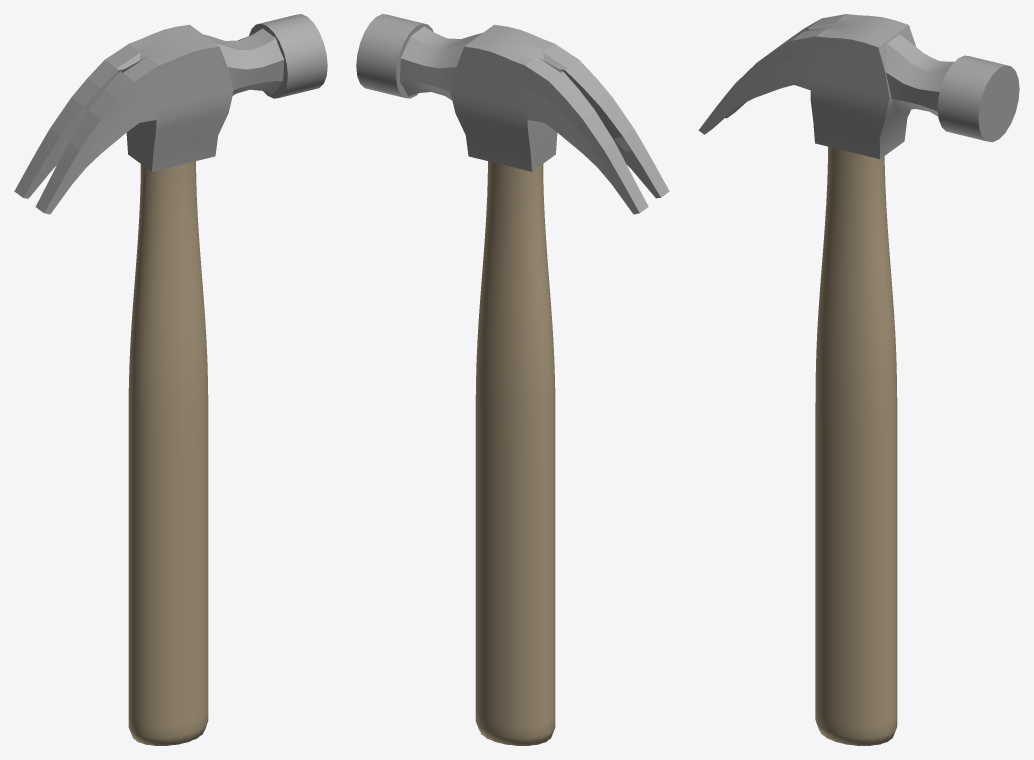
Rendered from Hammer.fbx.
The picture shows the model from 3 angles, left to right: view 1: azimuth 30°, elevation 25°; view 2: azimuth 150°, elevation 25°; view 3: azimuth 330°, elevation 25°; orthographic projection. The views are drawn at different scales.
Visible parts, largest first — view 1: pCube5; view 2: pCube5; view 3: pCube5.
Boxes of the visible parts, box(x1,y1,x2,y2) form: pCube5: box(14, 14, 327, 745); pCube5: box(356, 14, 669, 745); pCube5: box(698, 14, 1019, 745).
Size of the model in its own units: 2.39 by 5.67 by 0.5957.
